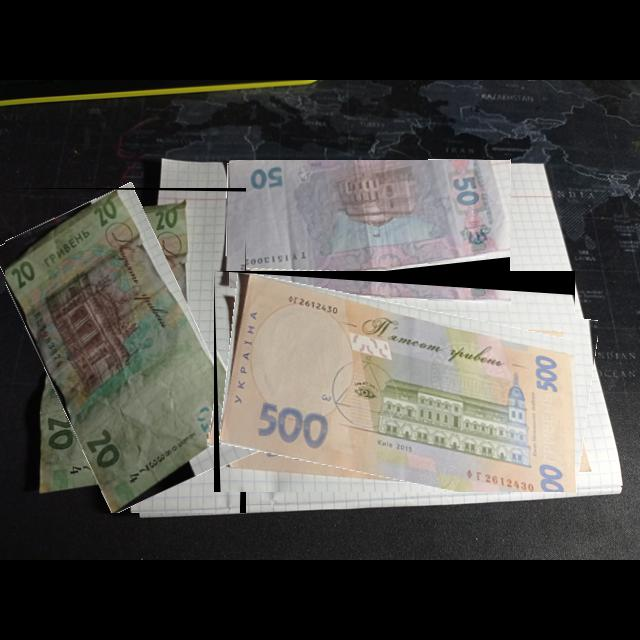20uah: (5, 190, 244, 514)
500uah: (218, 274, 576, 493)
50uah: (230, 160, 511, 288)
